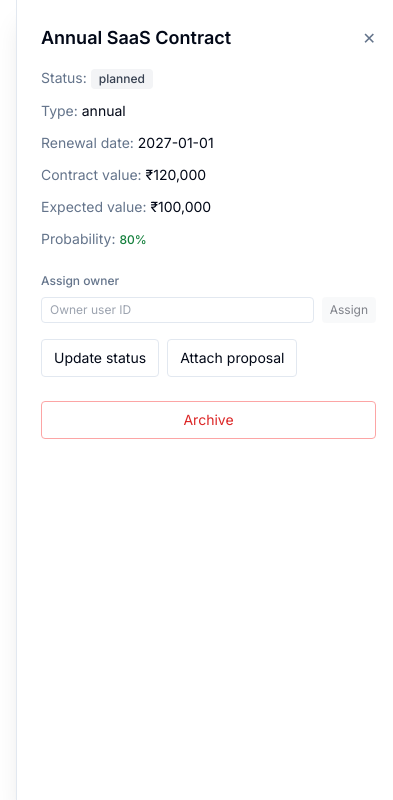
Test: RenewalDrawer › assign owner button enabled when input filled
This screenshot has width=393, height=800.
Step 1. Type "user-uuid-123" into the field with test id "drawer-owner-input" → (177, 310), box top-left (41, 297), bottom-right (314, 323)
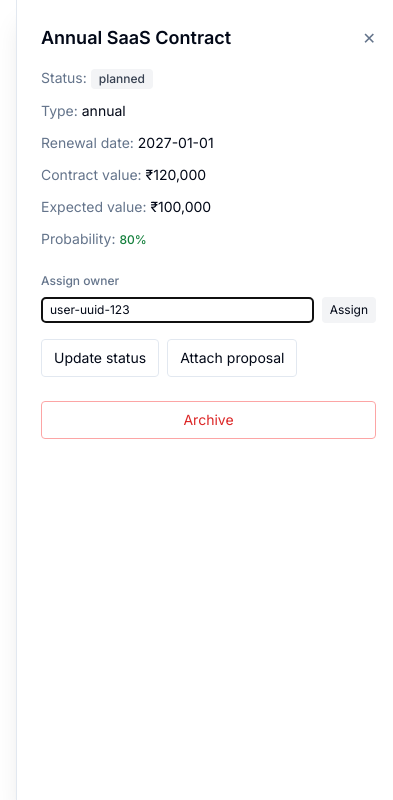
Result: the button with test id "drawer-assign-owner-btn" is enabled at top-left (322, 297), bottom-right (376, 323)
